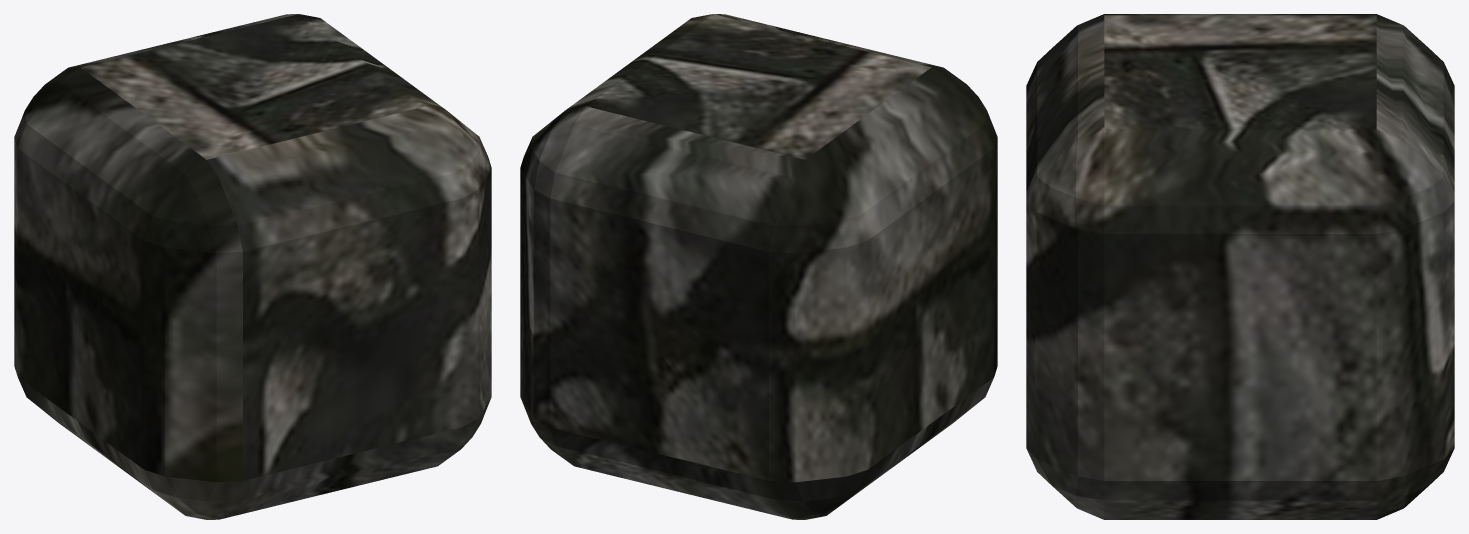
File: StandSitfbx.fbx
3 renders of one model, left to right at view 1: azimuth 30°, elevation 25°; view 2: azimuth 150°, elevation 25°; view 3: azimuth 270°, elevation 25°, orthographic. The views are drawn at different scales.
Parts seen in each view (by area): view 1: Cube.041; view 2: Cube.041; view 3: Cube.041.
Boxes of the visible parts, bbox=[...] form: Cube.041: bbox=[14, 14, 491, 519]; Cube.041: bbox=[520, 14, 997, 519]; Cube.041: bbox=[1026, 14, 1454, 519].
Size of the model in its own units: 122 by 122 by 122.
1 material, 1 textured.
